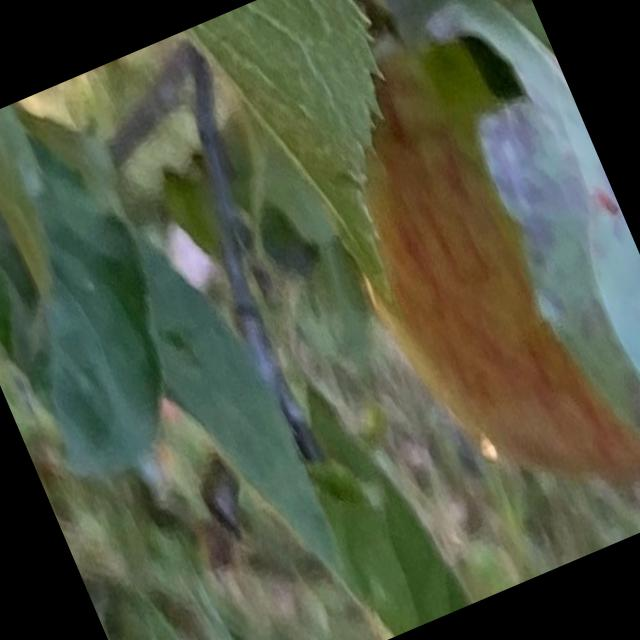Apples: (286, 0, 639, 542)
